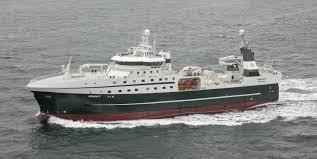Ship: (28, 30, 282, 121)
